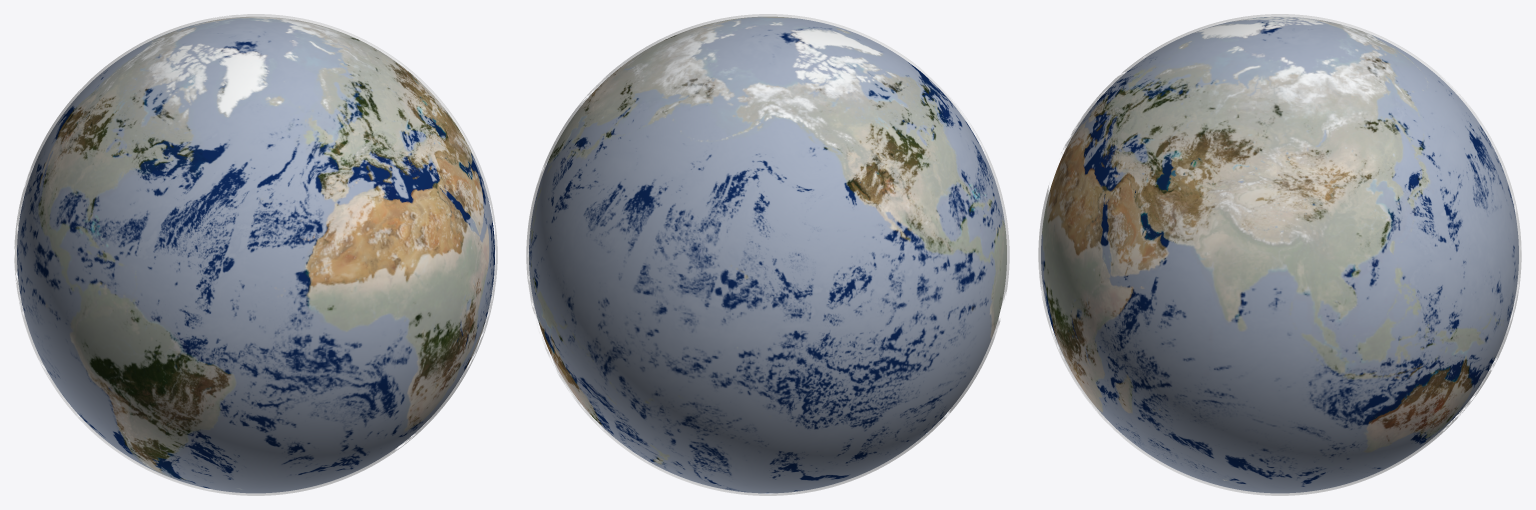
The model's file is earth.glb.
3 renders of one model, left to right at view 1: azimuth 30°, elevation 25°; view 2: azimuth 150°, elevation 25°; view 3: azimuth 270°, elevation 25°, orthographic.
Visible parts, largest first — view 1: earth_globe, earth_clouds; view 2: earth_globe, earth_clouds; view 3: earth_globe, earth_clouds.
Part boxes in pixels (x1,y1,x2,y2): earth_globe: (17, 17, 494, 492); earth_clouds: (14, 14, 497, 495); earth_globe: (529, 17, 1006, 493); earth_clouds: (526, 14, 1009, 495); earth_globe: (1041, 16, 1518, 492); earth_clouds: (1038, 14, 1521, 495).
Bounding box in the file's own units: 2.02 × 2.02 × 2.02.
Materials: 2 (2 with a texture image).
